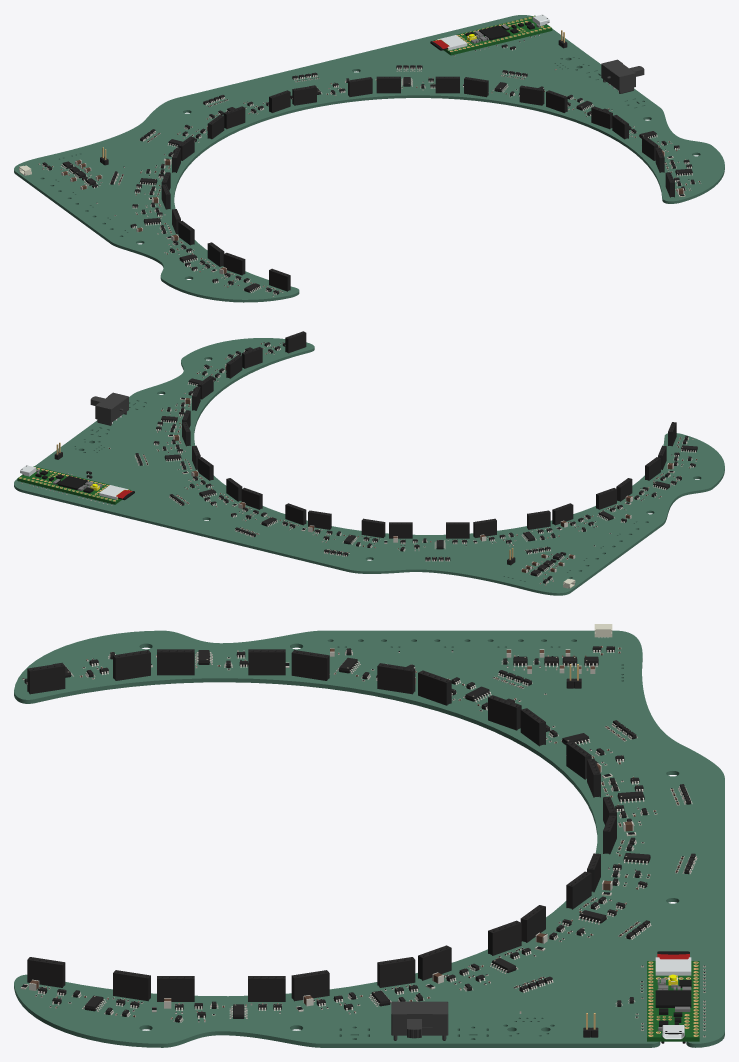
Rendered from arena_12-18-v1.0.glb.
The picture shows the model from 3 angles, top to bottom: view 1: azimuth 30°, elevation 25°; view 2: azimuth 150°, elevation 25°; view 3: azimuth 270°, elevation 25°; orthographic projection. The views are drawn at different scales.
Parts seen in each view (by area): view 1: =>[0:1:1:32], =>[0:1:1:23], =>[0:1:1:31]; view 2: =>[0:1:1:32], =>[0:1:1:23], =>[0:1:1:31]; view 3: =>[0:1:1:32], =>[0:1:1:9] (×19), =>[0:1:1:23], =>[0:1:1:31].
Part boxes in pixels (box(x1,y1,x2,y2)): =>[0:1:1:32]: box(14, 15, 724, 302); =>[0:1:1:23]: box(430, 14, 552, 55); =>[0:1:1:31]: box(601, 59, 644, 93); =>[0:1:1:32]: box(14, 338, 724, 595); =>[0:1:1:23]: box(17, 465, 134, 504); =>[0:1:1:31]: box(90, 392, 128, 425); =>[0:1:1:32]: box(14, 630, 724, 1047); =>[0:1:1:9] (×19): box(27, 649, 591, 1001); =>[0:1:1:23]: box(647, 951, 699, 1043); =>[0:1:1:31]: box(391, 1001, 448, 1040).
Size of the model in its own units: 0.3376 by 0.0144 by 0.24.
